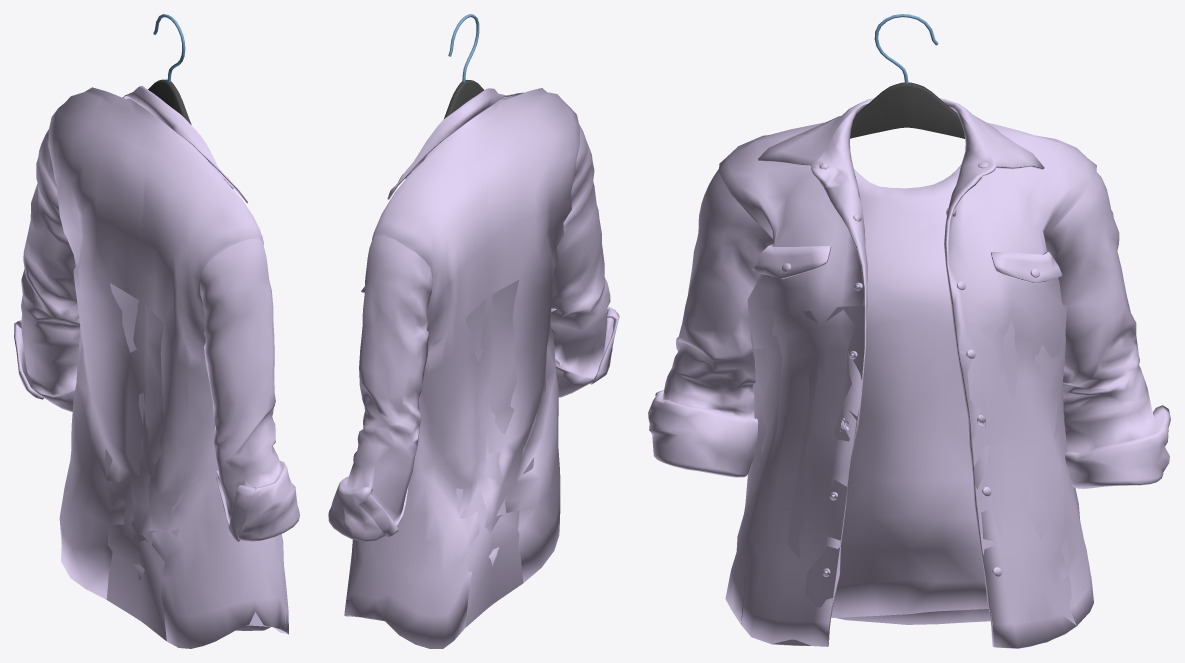
3 views of the same model, side by side, from view 1: azimuth 30°, elevation 25°; view 2: azimuth 150°, elevation 25°; view 3: azimuth 270°, elevation 25° (orthographic). The views are drawn at different scales.
Parts seen in each view (by area): view 1: WraithMesh013, Group010; view 2: WraithMesh013, Group010; view 3: WraithMesh013, Group010.
Boxes of the visible parts, <box> form: WraithMesh013: <box>14,85,299,648</box>; Group010: <box>148,14,209,162</box>; WraithMesh013: <box>328,88,619,648</box>; Group010: <box>444,14,484,118</box>; WraithMesh013: <box>648,98,1170,648</box>; Group010: <box>850,14,964,138</box>.
Size of the model in its own units: 12.47 by 70.33 by 53.31.
